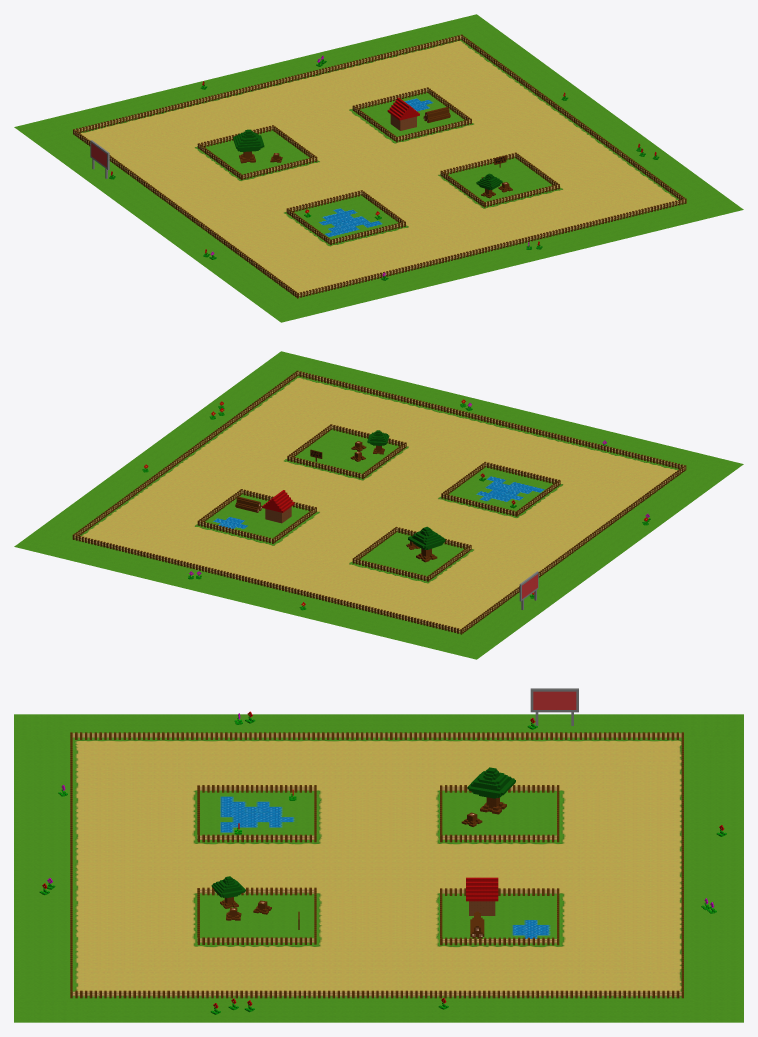
Rendered from Map2.fbx.
3 renders of one model, top to bottom at view 1: azimuth 30°, elevation 25°; view 2: azimuth 150°, elevation 25°; view 3: azimuth 270°, elevation 25°, orthographic. The views are drawn at different scales.
Parts seen in each view (by area): view 1: pPlane1, fence61, fence13, fence15, fence12, fence14, House1, Tree1; view 2: pPlane1, fence61, fence13, fence12, fence15, fence14, Tree1, House1; view 3: pPlane1, fence61, fence13, fence12, fence15, fence14, Sign, Tree1, House1, Tree.
Boxes of the visible parts, <box> form: pPlane1: <box>14,14,743,322</box>; fence61: <box>73,34,686,298</box>; fence13: <box>286,190,405,244</box>; fence15: <box>352,87,471,142</box>; fence12: <box>440,152,559,207</box>; fence14: <box>197,125,317,179</box>; House1: <box>387,97,419,130</box>; Tree1: <box>233,129,264,163</box>; pPlane1: <box>14,351,743,659</box>; fence61: <box>72,370,686,634</box>; fence13: <box>441,461,560,516</box>; fence12: <box>287,424,406,479</box>; fence15: <box>197,489,316,543</box>; fence14: <box>352,526,471,581</box>; Tree1: <box>408,526,445,562</box>; House1: <box>262,490,294,523</box>; pPlane1: <box>14,714,743,1022</box>; fence61: <box>70,732,683,998</box>; fence13: <box>197,785,316,842</box>; fence12: <box>197,887,316,944</box>; fence15: <box>440,888,559,945</box>; fence14: <box>440,785,559,842</box>; Sign: <box>530,688,578,725</box>; Tree1: <box>467,767,515,814</box>; House1: <box>466,877,498,915</box>; Tree: <box>211,876,245,908</box>.
Bounding box in the file's own units: 60 × 3.6 × 60.
